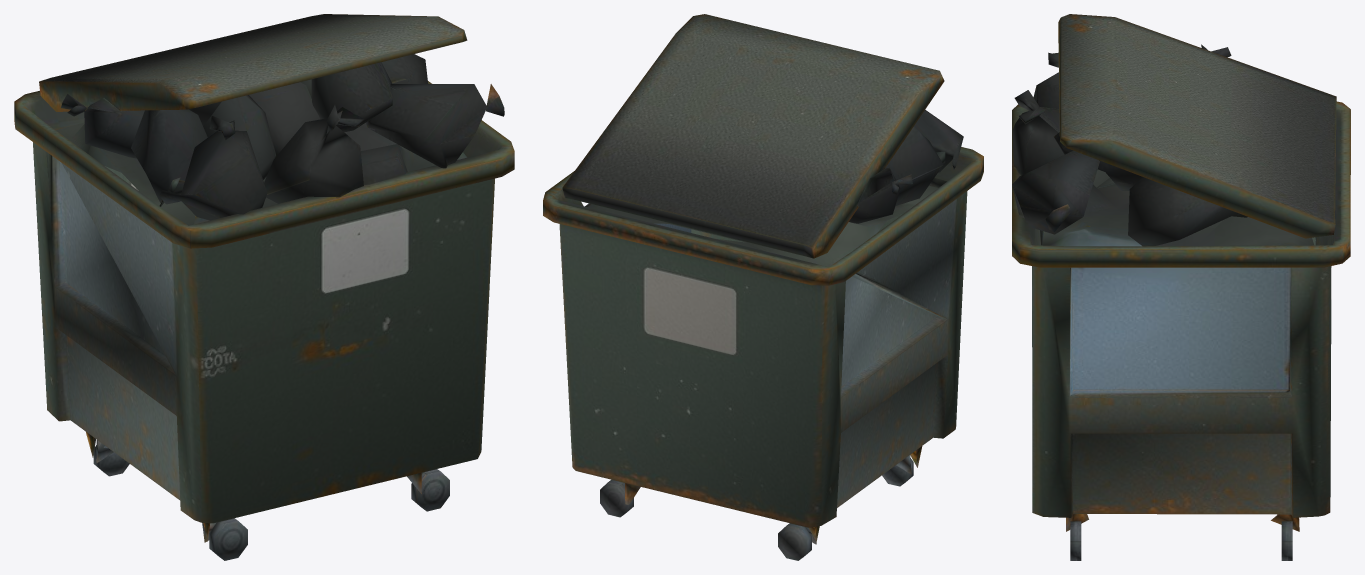
The model's file is dumpster.glb.
3 renders of one model, left to right at view 1: azimuth 30°, elevation 25°; view 2: azimuth 150°, elevation 25°; view 3: azimuth 270°, elevation 25°, orthographic. The views are drawn at different scales.
Bounding box in the file's own units: 1.88 × 2.4 × 1.7.
1 material, 1 textured.
